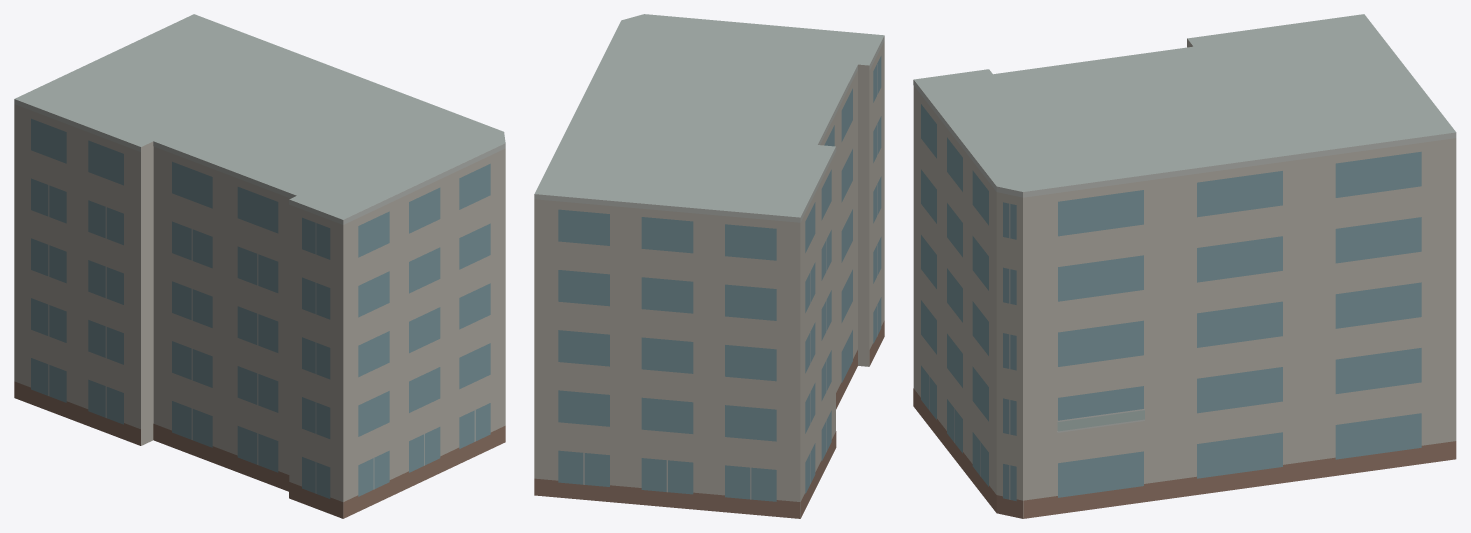
File: survey-upis-33021699.glb
3 renders of one model, left to right at view 1: azimuth 30°, elevation 25°; view 2: azimuth 150°, elevation 25°; view 3: azimuth 270°, elevation 25°, orthographic. The views are drawn at different scales.
Visible parts, largest first — view 1: survey-upis-33021699.tmp; view 2: survey-upis-33021699.tmp; view 3: survey-upis-33021699.tmp.
Part boxes in pixels (bbox=[...]): survey-upis-33021699.tmp: bbox=[14, 14, 505, 518]; survey-upis-33021699.tmp: bbox=[534, 14, 884, 518]; survey-upis-33021699.tmp: bbox=[913, 14, 1456, 518].
Bounding box in the file's own units: 16.6 × 14.2 × 21.39.
